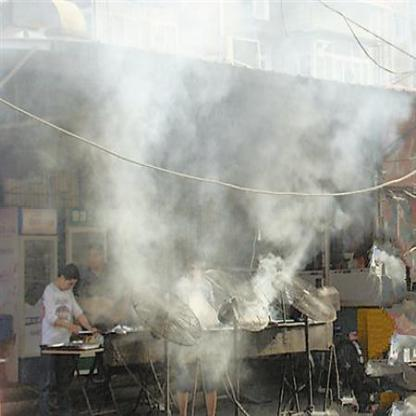smoke: (110, 54, 167, 149), (181, 109, 264, 165), (106, 185, 149, 278), (341, 93, 383, 151), (270, 204, 316, 254), (173, 21, 231, 57)
